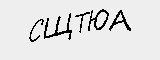А: (109, 7, 133, 30)
С: (25, 13, 44, 42)
Т: (73, 8, 89, 33)
Щ: (45, 12, 73, 41)
Ю: (86, 7, 109, 34)
